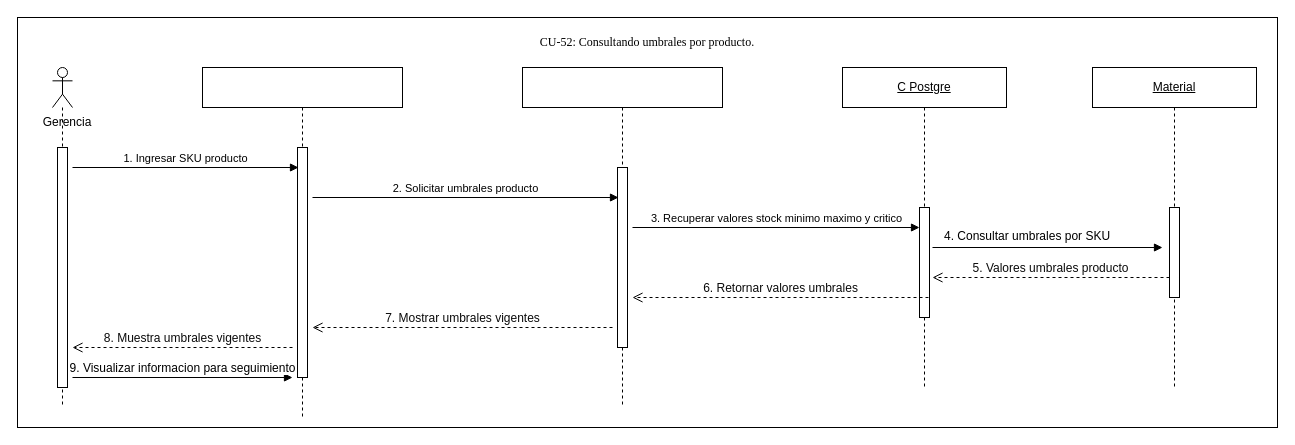
This 1295x445 diagram has some shape labels left out. The box of each missing label's shape, as (x1, y1, x2, y2) in pixels:
C_AlertaInventario: (522, 66, 722, 408)
V Detalle Producto: (202, 66, 402, 418)
